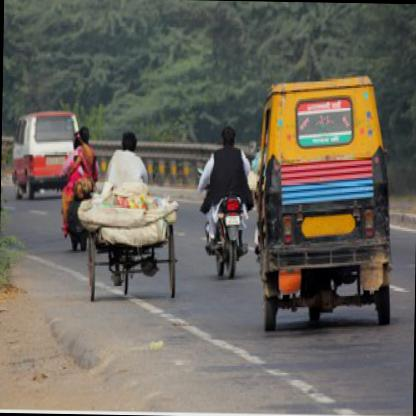car: (9, 110, 81, 198)
motorcycle: (200, 127, 256, 280), (59, 127, 95, 249)
